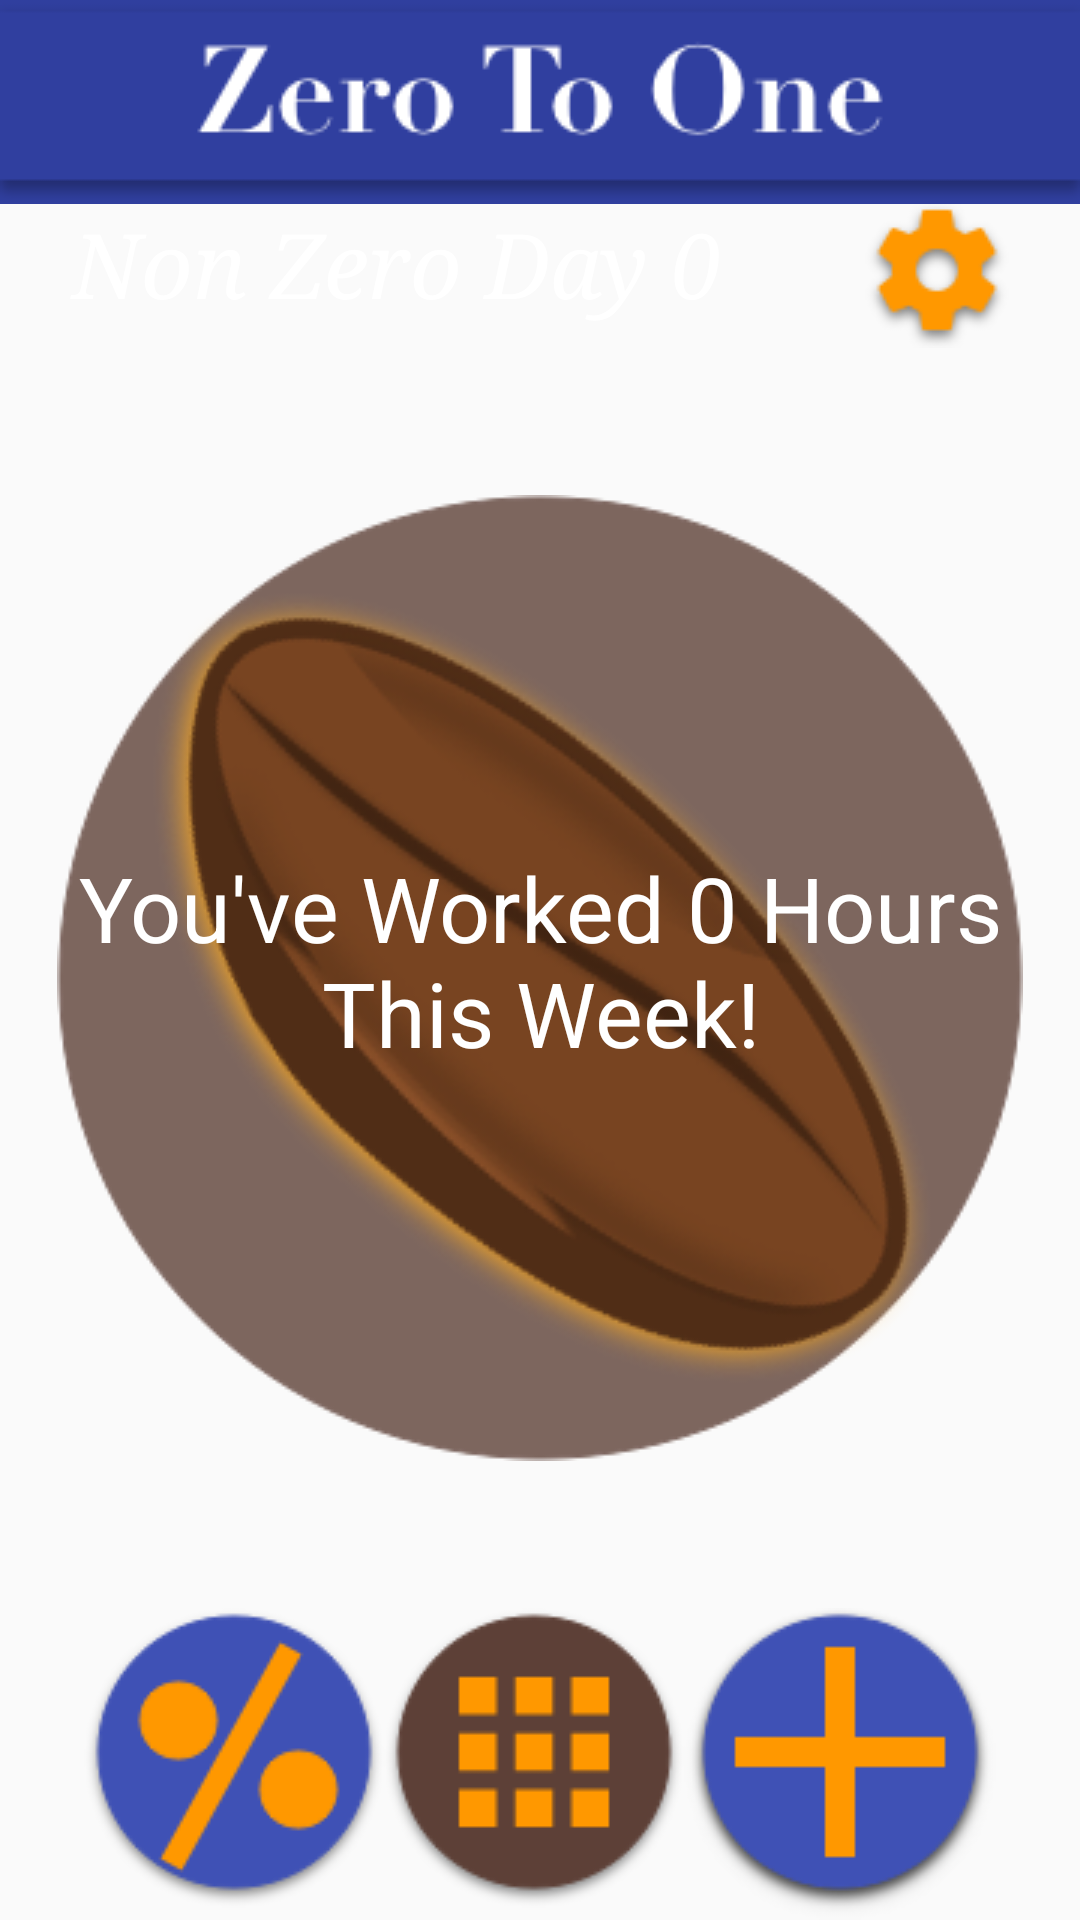

Icon bounding boxes for this 1080×1920 phone screenshot, format [x1=x1, y1=y1, x2=x2, y2=y2]:
addbut: [x1=695, y1=1613, x2=985, y2=1905]
percentbut: [x1=93, y1=1613, x2=375, y2=1899]
settingsicon: [x1=876, y1=209, x2=998, y2=341]
squaresbut: [x1=393, y1=1613, x2=675, y2=1899]
